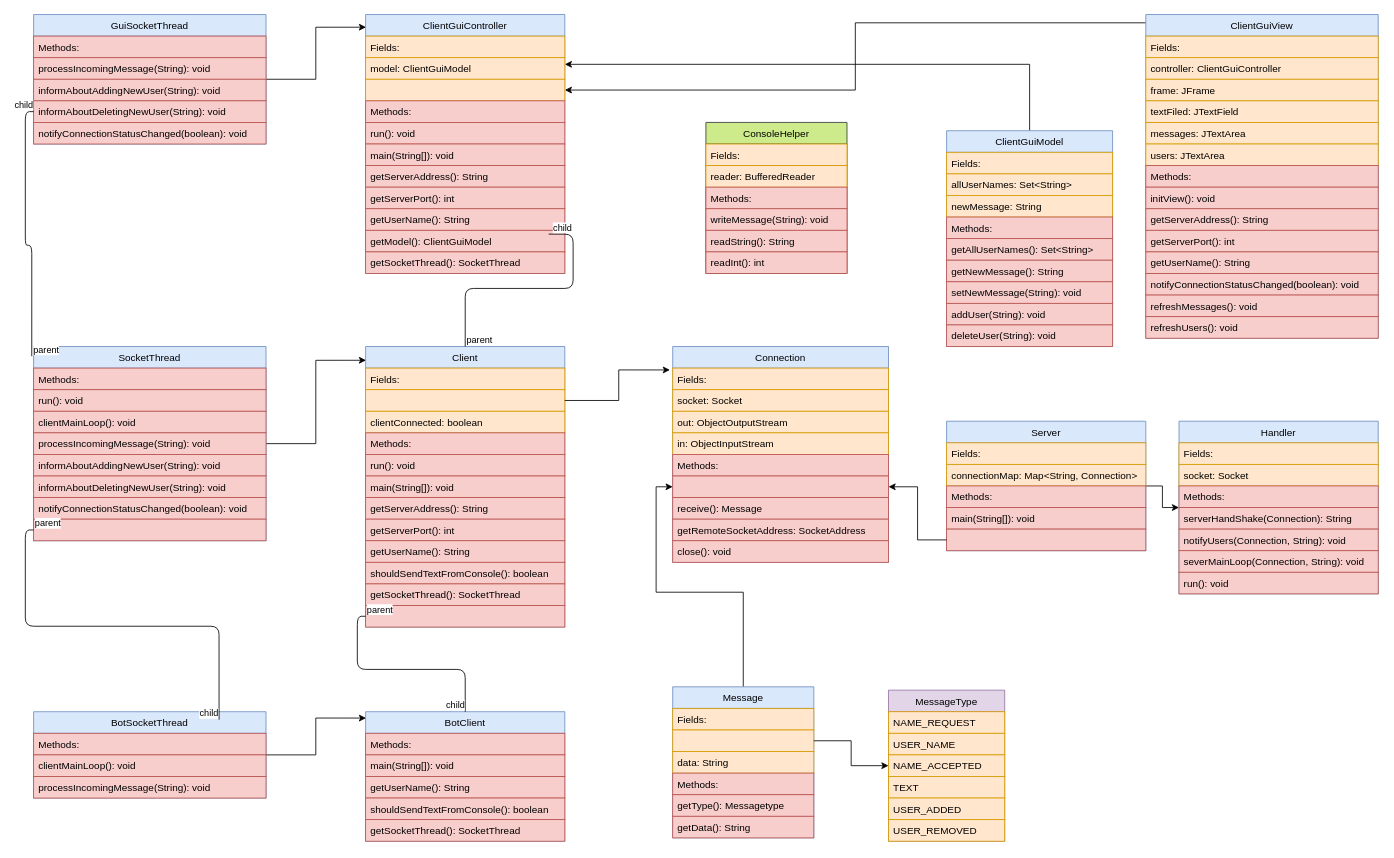
This 1394x858 diagram has some shape labels left out. The shapes that lost their labels are listed below. From the top down, each one's centre as x and y in pixels, then its label:
At [465,89]: "view: ClientGuiView".
At [465,400]: "connection: Connection".
At [780,486]: "send(Message): void".
At [149,529]: "clientHandshake(): void".
At [1046,539]: "sendBroadcastMessage(Message): void".
At [465,616]: "sendTextMessage(String): void".
At [743,740]: "type: MessageType".
